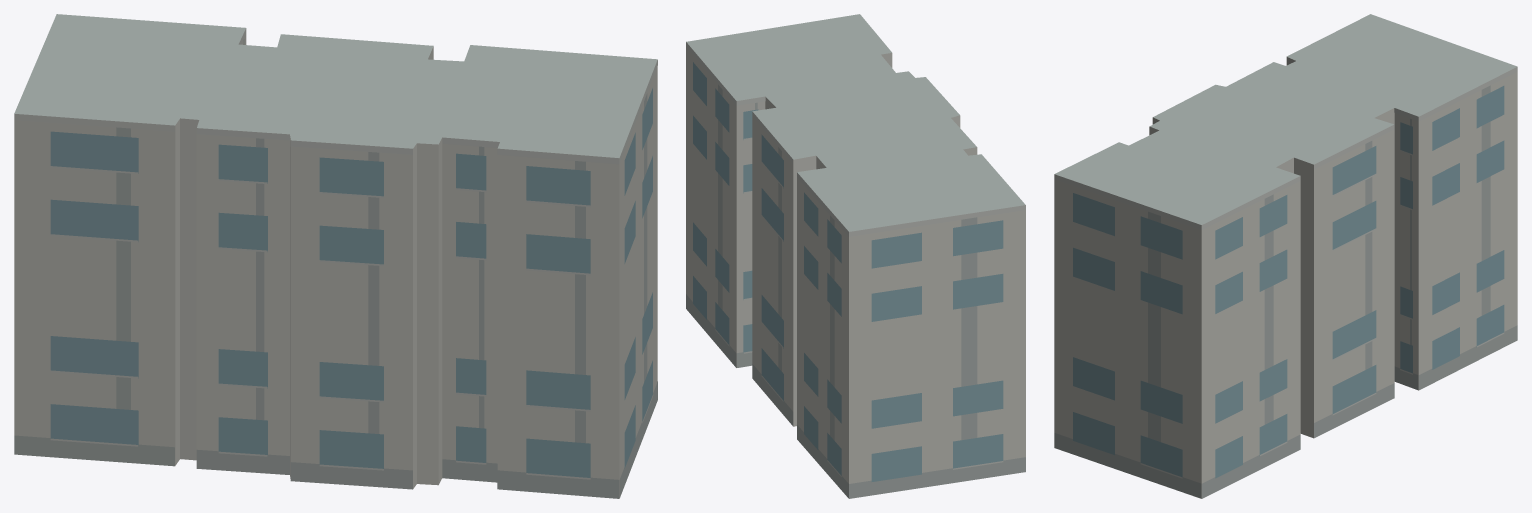
The model's file is survey-upis-33037649.glb.
3 renders of one model, left to right at view 1: azimuth 30°, elevation 25°; view 2: azimuth 150°, elevation 25°; view 3: azimuth 270°, elevation 25°, orthographic. The views are drawn at different scales.
Parts seen in each view (by area): view 1: survey-upis-33037649.tmp; view 2: survey-upis-33037649.tmp; view 3: survey-upis-33037649.tmp.
Boxes of the visible parts, x1,y1,x2,y2 form: survey-upis-33037649.tmp: (14, 14, 657, 498); survey-upis-33037649.tmp: (686, 14, 1025, 498); survey-upis-33037649.tmp: (1054, 14, 1517, 498).
Size of the model in its own units: 22.09 by 13.35 by 20.49.
